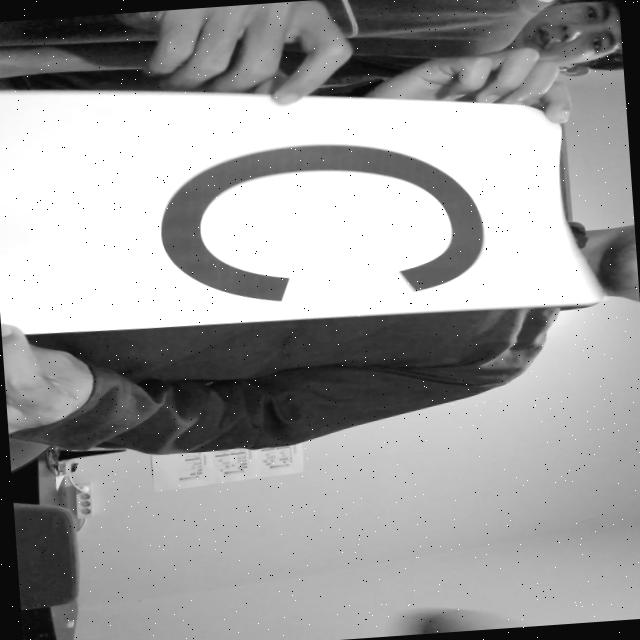c: (145, 126, 498, 316)
